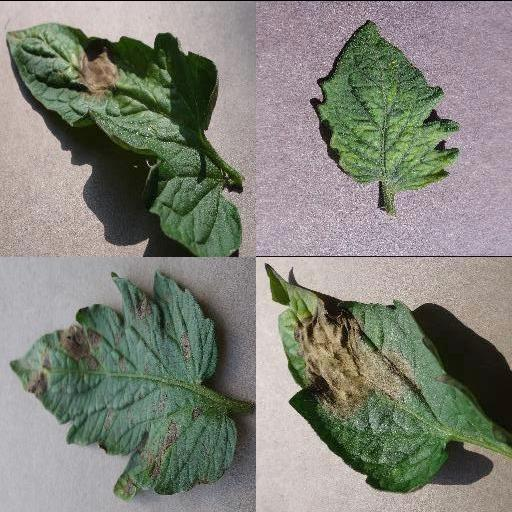Early Blight: (8, 272, 234, 501)
Late Blight: (264, 263, 512, 495), (6, 21, 242, 256)
Mosaic Virus: (317, 19, 463, 191)
